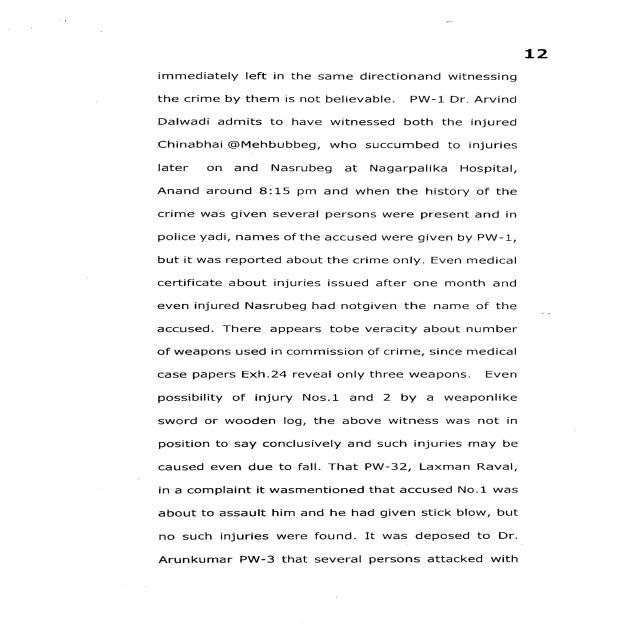page-number: (429, 1, 636, 69)
